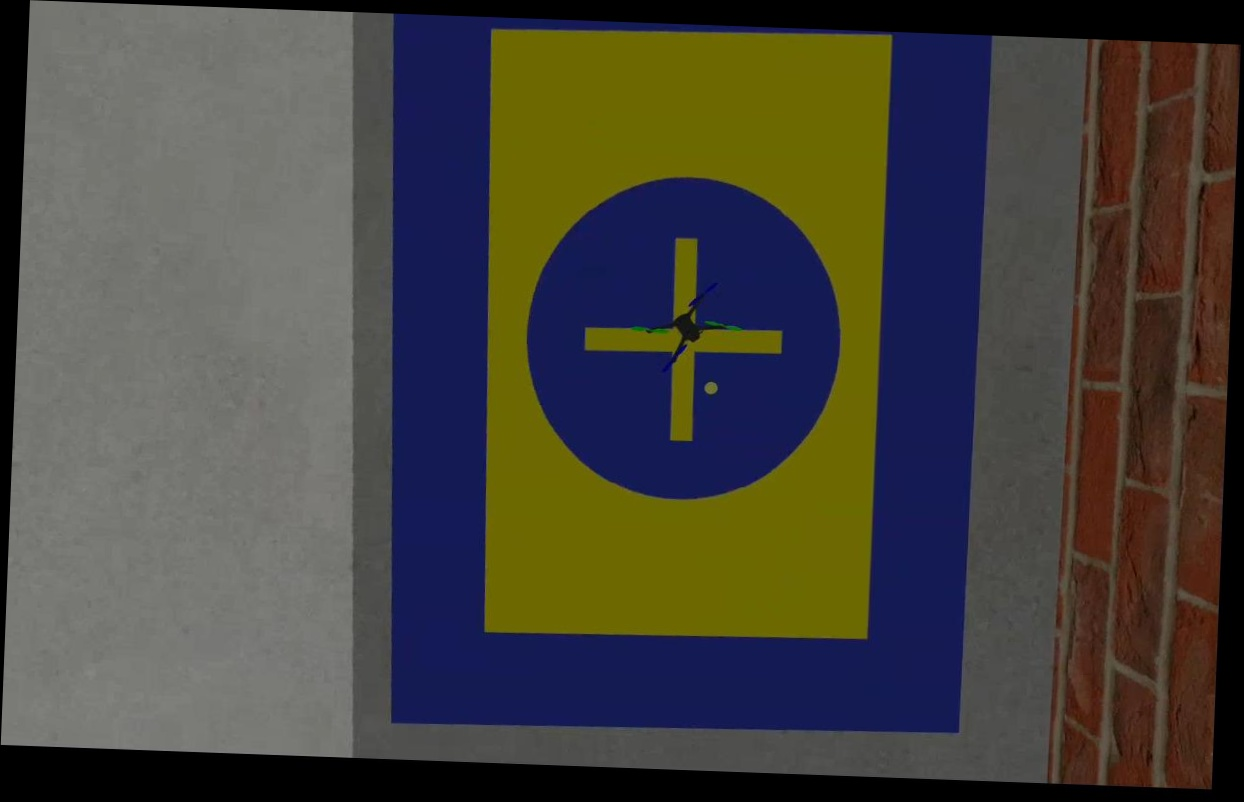large_base: (365, 14, 990, 751)
